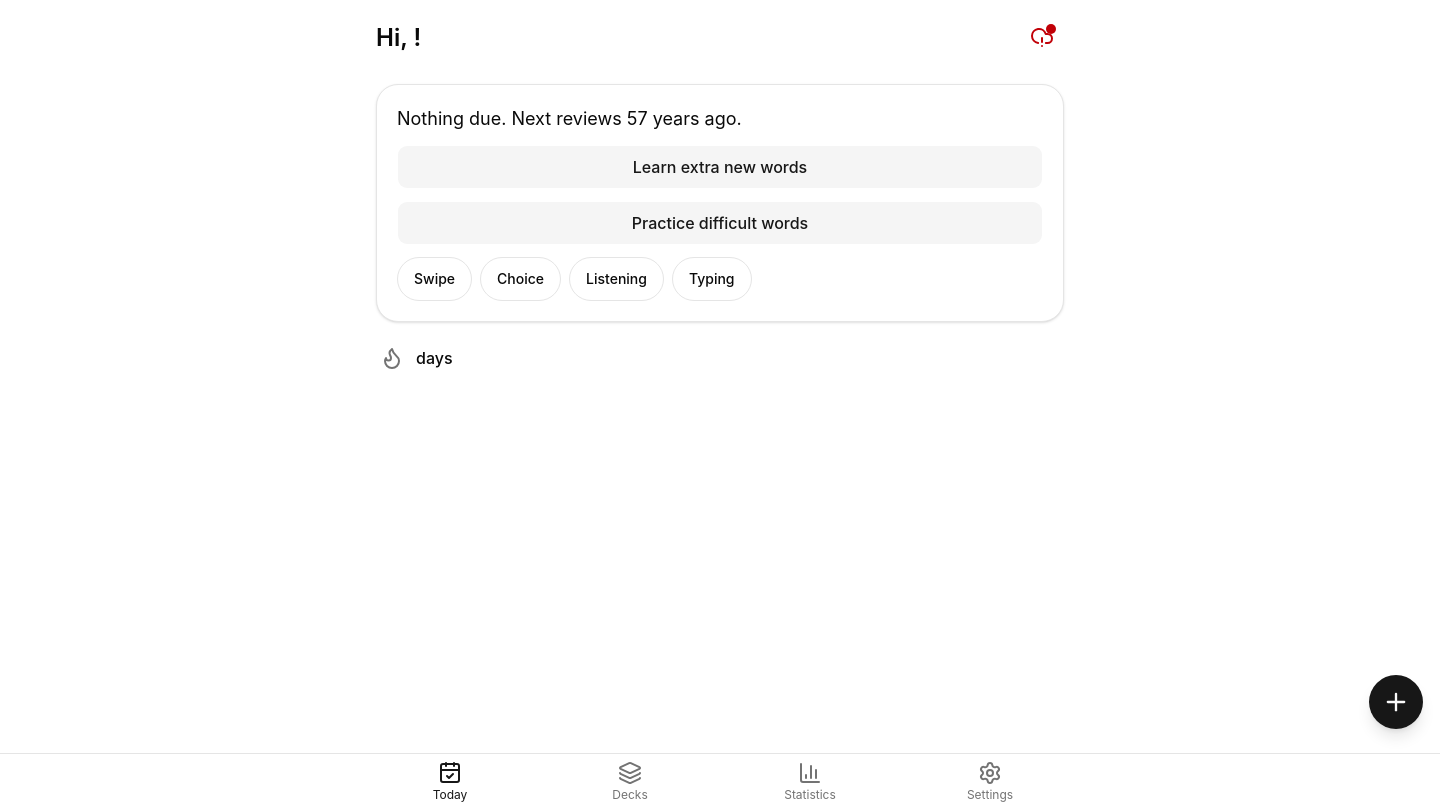
Today › offers extra new words when nothing is due, and they add 10 new cards
expect the text "Nothing due." is shown: met, box [397,108,506,129]
Click the button "Learn extra new words" at [720, 167], box [397,145,1043,189]
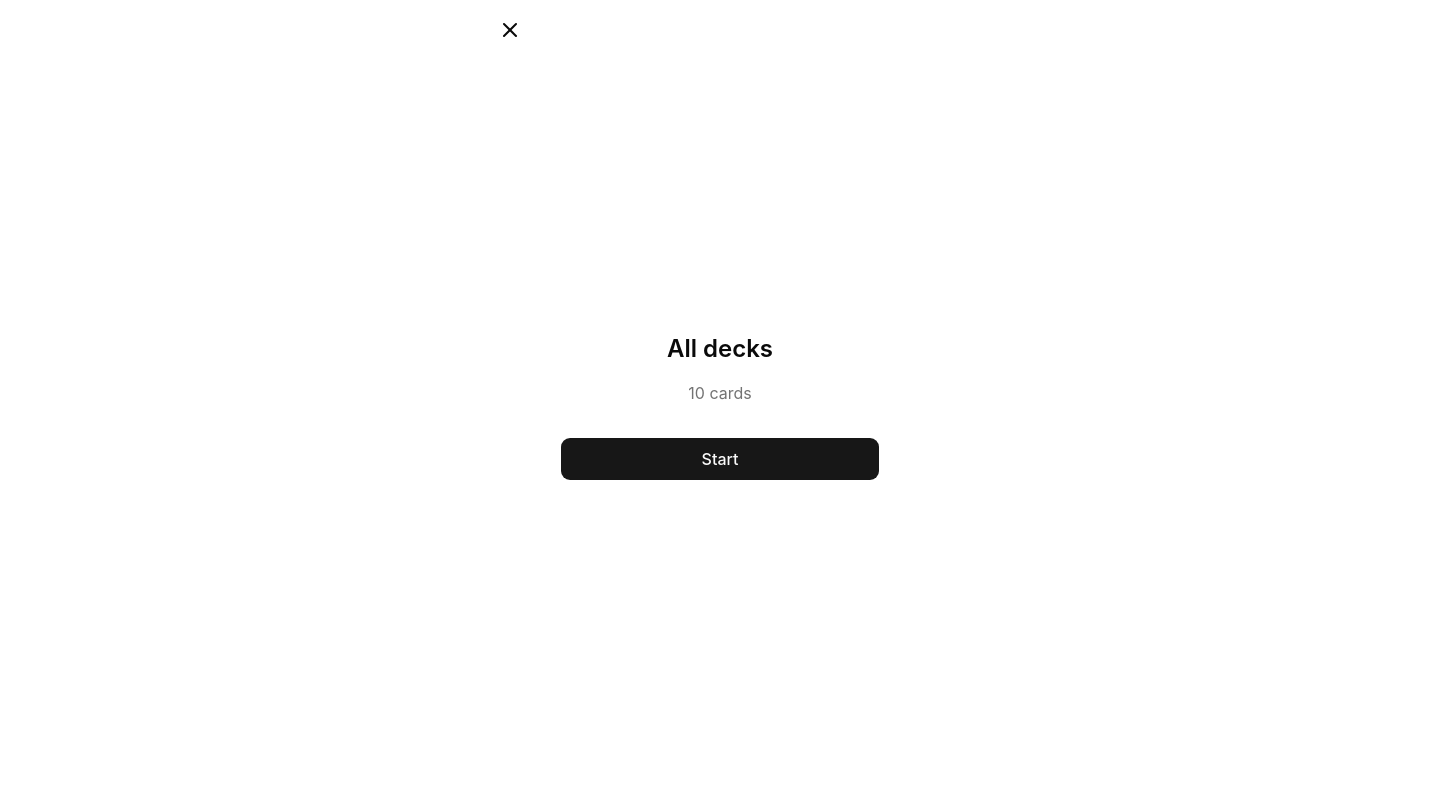
expect the text "10 cards" is shown: met, box [688,381,752,405]
